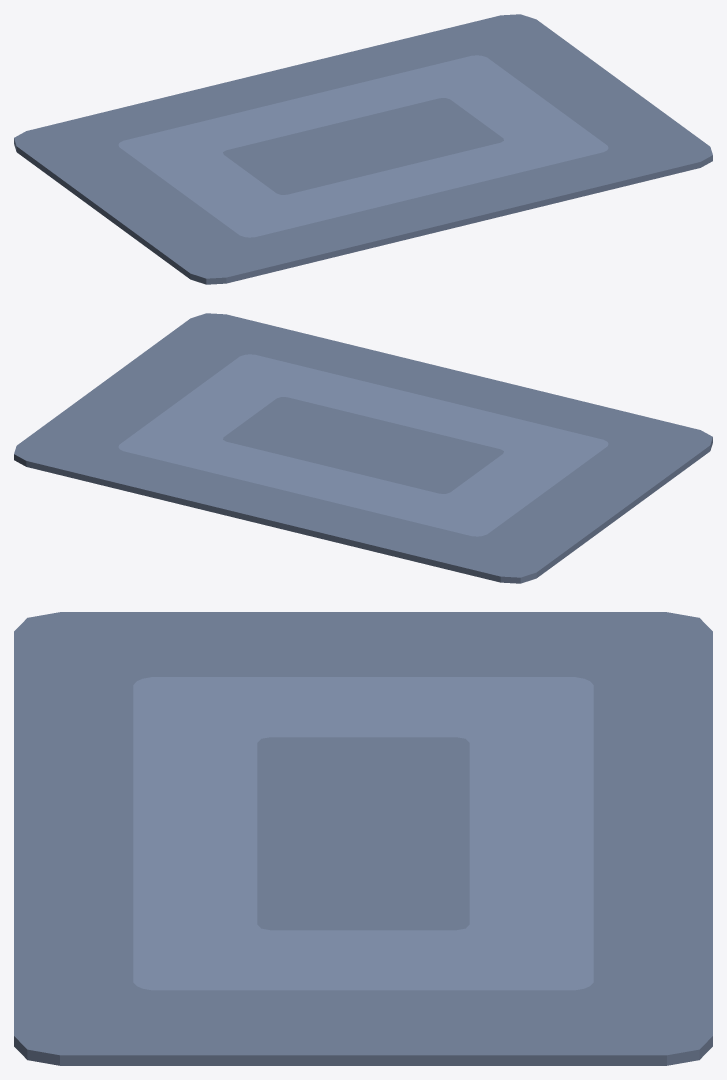
Rendered from Carpet3_C1.fbx.
The picture shows the model from 3 angles, top to bottom: view 1: azimuth 30°, elevation 25°; view 2: azimuth 150°, elevation 25°; view 3: azimuth 270°, elevation 25°; orthographic projection. The views are drawn at different scales.
Visible parts, largest first — view 1: Carpet3_C1; view 2: Carpet3_C1; view 3: Carpet3_C1.
Part boxes in pixels (box(x1,y1,x2,y2)): Carpet3_C1: box(14, 14, 712, 284); Carpet3_C1: box(14, 313, 712, 583); Carpet3_C1: box(14, 612, 712, 1065).
Bounding box in the file's own units: 90 × 1 × 60.
